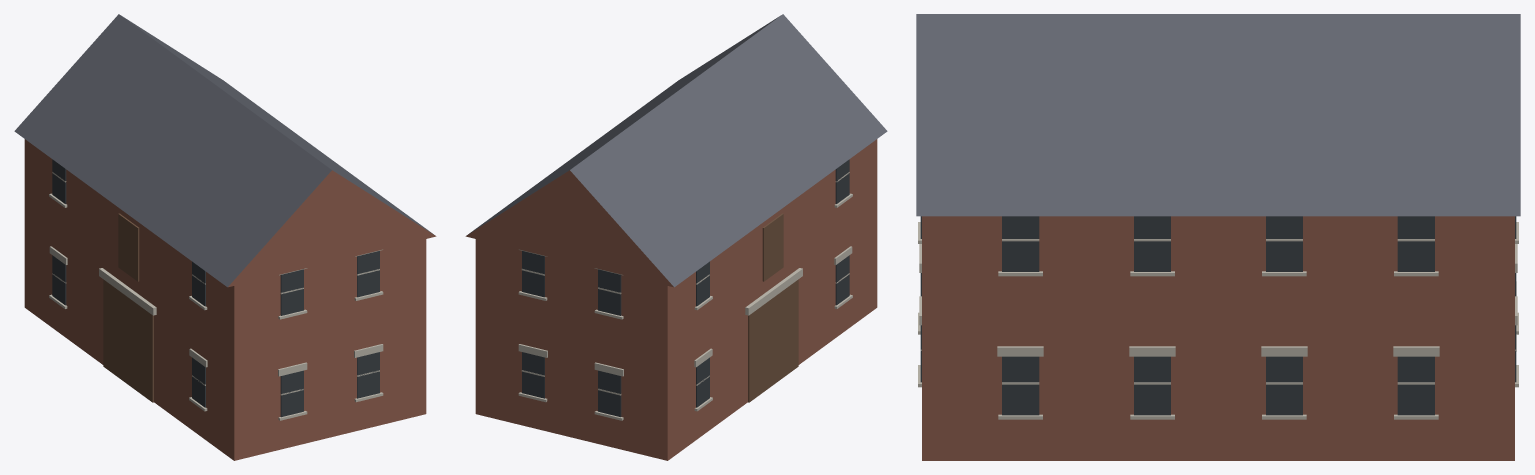
File: house_1713_indiana_coach_house__draft_1904.glb
3 views of the same model, side by side, from view 1: azimuth 30°, elevation 25°; view 2: azimuth 150°, elevation 25°; view 3: azimuth 270°, elevation 25° (orthographic). The views are drawn at different scales.
Visible parts, largest first — view 1: house_1713_indiana_coach_house__draft_1904; view 2: house_1713_indiana_coach_house__draft_1904; view 3: house_1713_indiana_coach_house__draft_1904.
Part boxes in pixels (<box>): house_1713_indiana_coach_house__draft_1904: <box>14,14,436,460</box>; house_1713_indiana_coach_house__draft_1904: <box>465,14,887,460</box>; house_1713_indiana_coach_house__draft_1904: <box>916,14,1520,460</box>.
Size of the model in its own units: 7.35 by 9.03 by 12.99.
